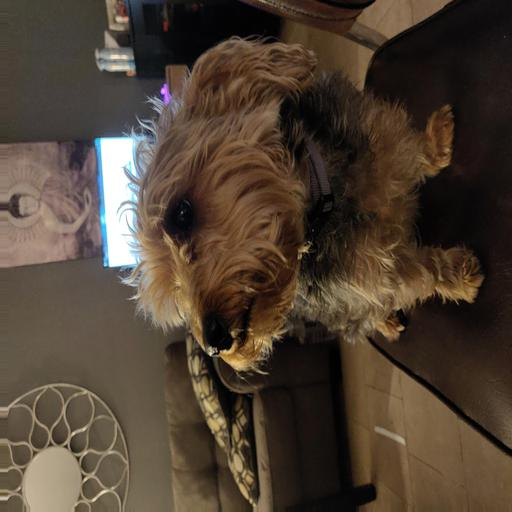dog: (135, 27, 489, 381)
